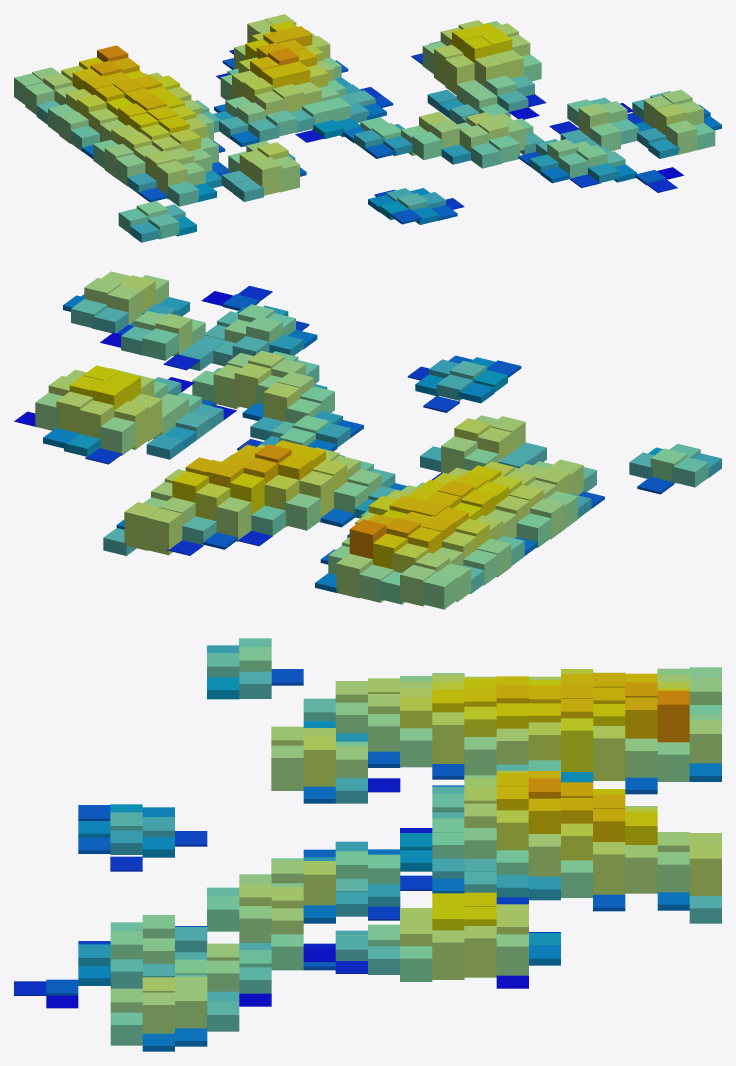
File: population.glb
3 renders of one model, top to bottom at view 1: azimuth 30°, elevation 25°; view 2: azimuth 150°, elevation 25°; view 3: azimuth 270°, elevation 25°, orthographic. The views are drawn at different scales.
Parts seen in each view (by area): view 1: population; view 2: population; view 3: population.
Part boxes in pixels (x1=…): population: x1=14, y1=14, x2=721, y2=242; population: x1=14, y1=271, x2=721, y2=609; population: x1=14, y1=638, x2=721, y2=1051.
Bounding box in the file's own units: 2829 × 280 × 2190.
